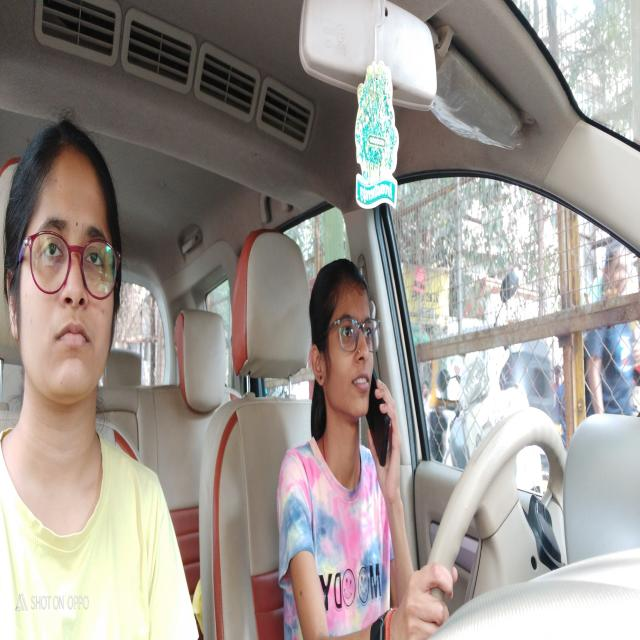mobile: (371, 359, 393, 484)
person: (7, 106, 124, 412), (305, 253, 383, 421)
